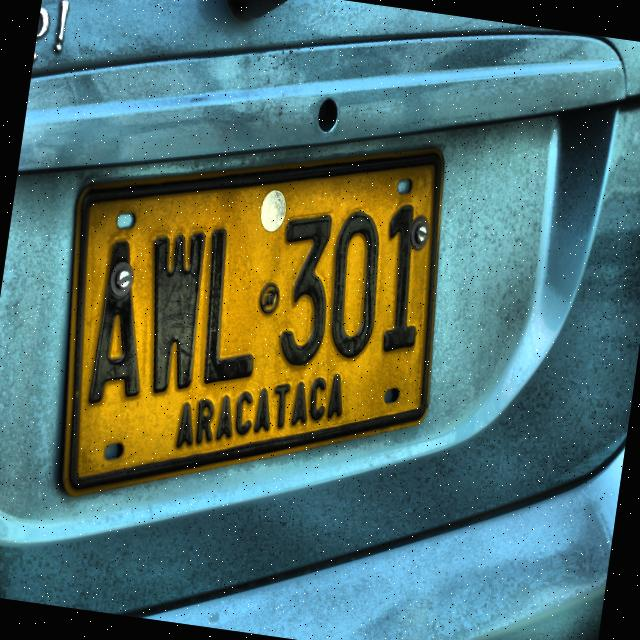0: (327, 207, 384, 366)
1: (374, 200, 420, 358)
3: (275, 206, 336, 368)
A: (85, 230, 148, 422)
L: (201, 219, 261, 389)
W: (144, 222, 211, 404)
